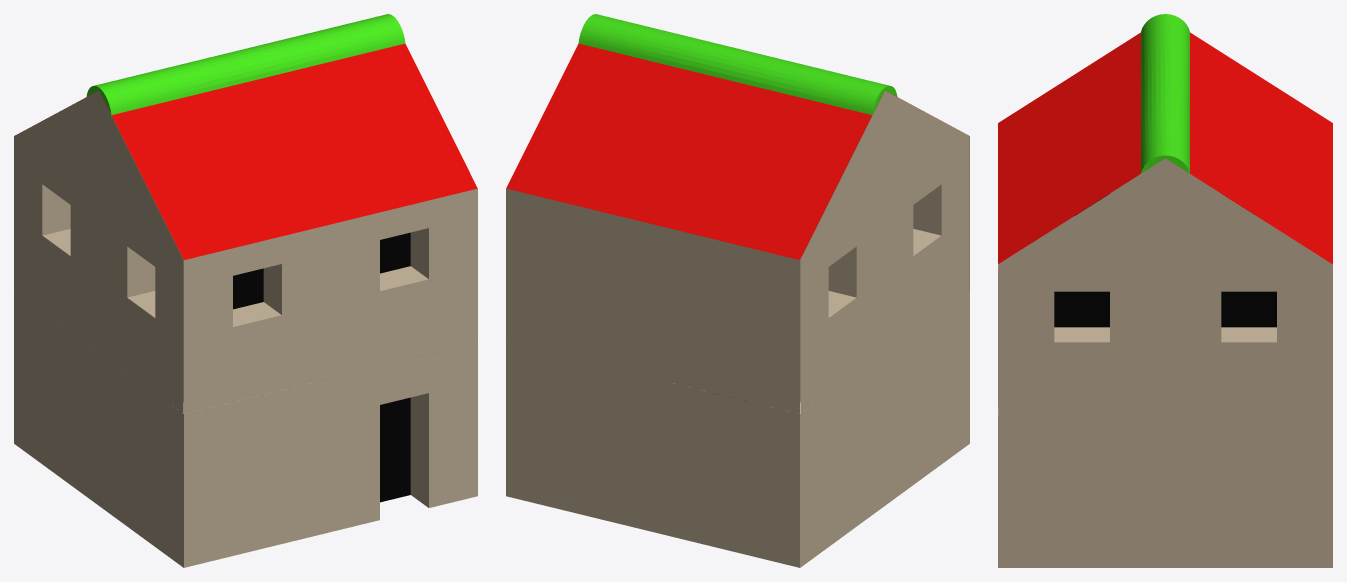
Rendered from env_house_01.fbx.
The picture shows the model from 3 angles, left to right: view 1: azimuth 30°, elevation 25°; view 2: azimuth 150°, elevation 25°; view 3: azimuth 270°, elevation 25°; orthographic projection.
Parts seen in each view (by area): view 1: Final_Roof.002, Final_Roof.001, WallEdit.001, WindowEdit.002, WindowEdit.001, DoorEdit.001, Tri Window.004, Tri Window.005, WallEdit.002, WallEdit.003; view 2: Final_Roof.002, Final_Roof.001, WallEdit.005, WallEdit.009, WallEdit.004, WallEdit.008, Tri Window.005, Tri Window.004, WallEdit.003, WallEdit.002; view 3: Tri Window.002, Tri Window.003, WallEdit.006, WallEdit.007, Final_Roof.001, Final_Roof.002.
Part boxes in pixels (box(x1,y1,x2,y2)): Final_Roof.002: box(15, 50, 330, 259); Final_Roof.001: box(241, 14, 477, 224); WallEdit.001: box(184, 378, 330, 567); WindowEdit.002: box(184, 224, 330, 413); WindowEdit.001: box(331, 188, 477, 377); DoorEdit.001: box(331, 342, 477, 531); Tri Window.004: box(99, 91, 183, 413); Tri Window.005: box(14, 91, 98, 351); WallEdit.002: box(99, 352, 183, 567); WallEdit.003: box(14, 290, 98, 505); Final_Roof.002: box(653, 50, 968, 259); Final_Roof.001: box(506, 14, 742, 224); WallEdit.005: box(506, 342, 652, 531); WallEdit.009: box(653, 224, 799, 413); WallEdit.004: box(653, 378, 799, 567); WallEdit.008: box(506, 188, 652, 377); Tri Window.005: box(800, 91, 884, 413); Tri Window.004: box(885, 91, 969, 351); WallEdit.003: box(800, 352, 884, 567); WallEdit.002: box(885, 290, 969, 505); Tri Window.002: box(1165, 159, 1332, 416); Tri Window.003: box(998, 158, 1165, 416); WallEdit.006: box(1165, 416, 1332, 567); WallEdit.007: box(998, 416, 1165, 567); Final_Roof.001: box(998, 84, 1332, 264); Final_Roof.002: box(998, 14, 1332, 193).
Bounding box in the file's own units: 200 × 272 × 200.
